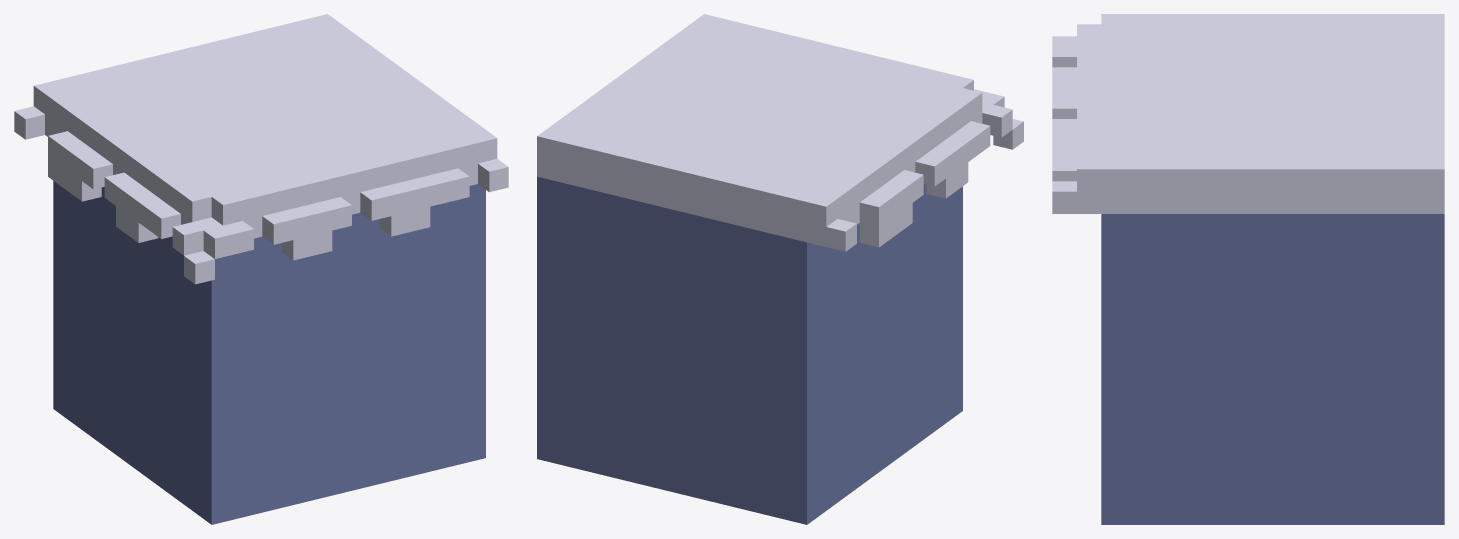
Rendered from SnowCorner_1.fbx.
3 renders of one model, left to right at view 1: azimuth 30°, elevation 25°; view 2: azimuth 150°, elevation 25°; view 3: azimuth 270°, elevation 25°, orthographic. The views are drawn at different scales.
Parts seen in each view (by area): view 1: SnowCorner_1; view 2: SnowCorner_1; view 3: SnowCorner_1.
Part boxes in pixels (box(x1,y1,x2,y2)): SnowCorner_1: box(14, 14, 508, 524); SnowCorner_1: box(537, 14, 1023, 524); SnowCorner_1: box(1052, 14, 1444, 524).
Size of the model in its own units: 16 by 16 by 16.
Materials: 1 (1 with a texture image).
